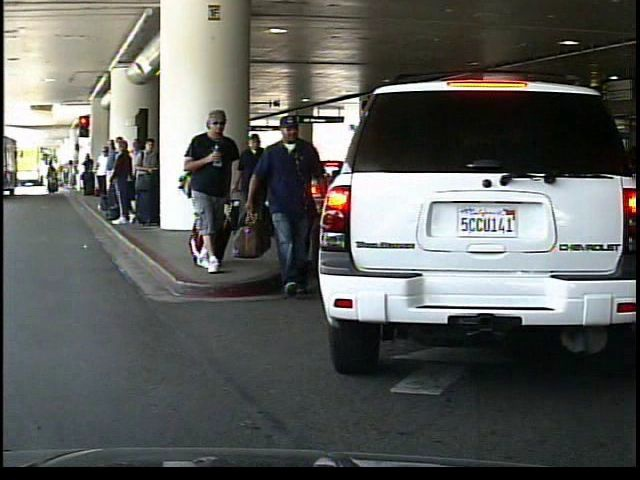person: (246, 101, 322, 294), (182, 105, 242, 274), (237, 135, 277, 242)
